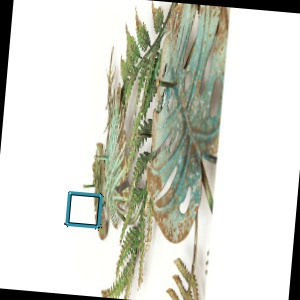square: (60, 188, 105, 234)
